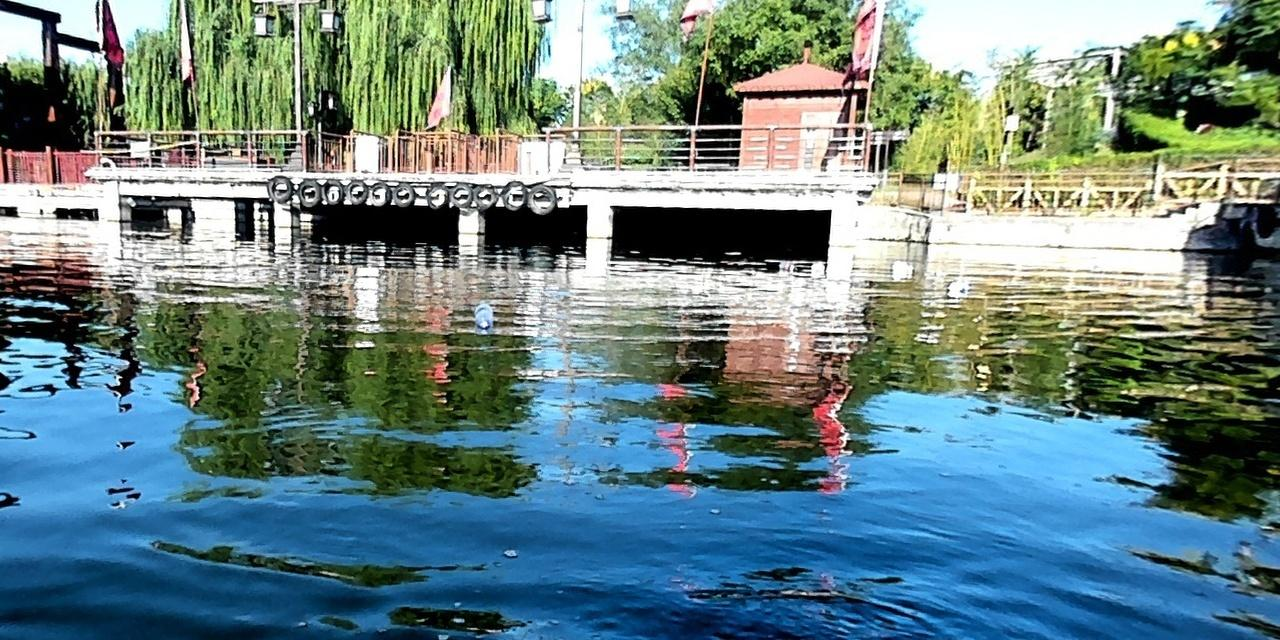bottle: (472, 298, 494, 335)
